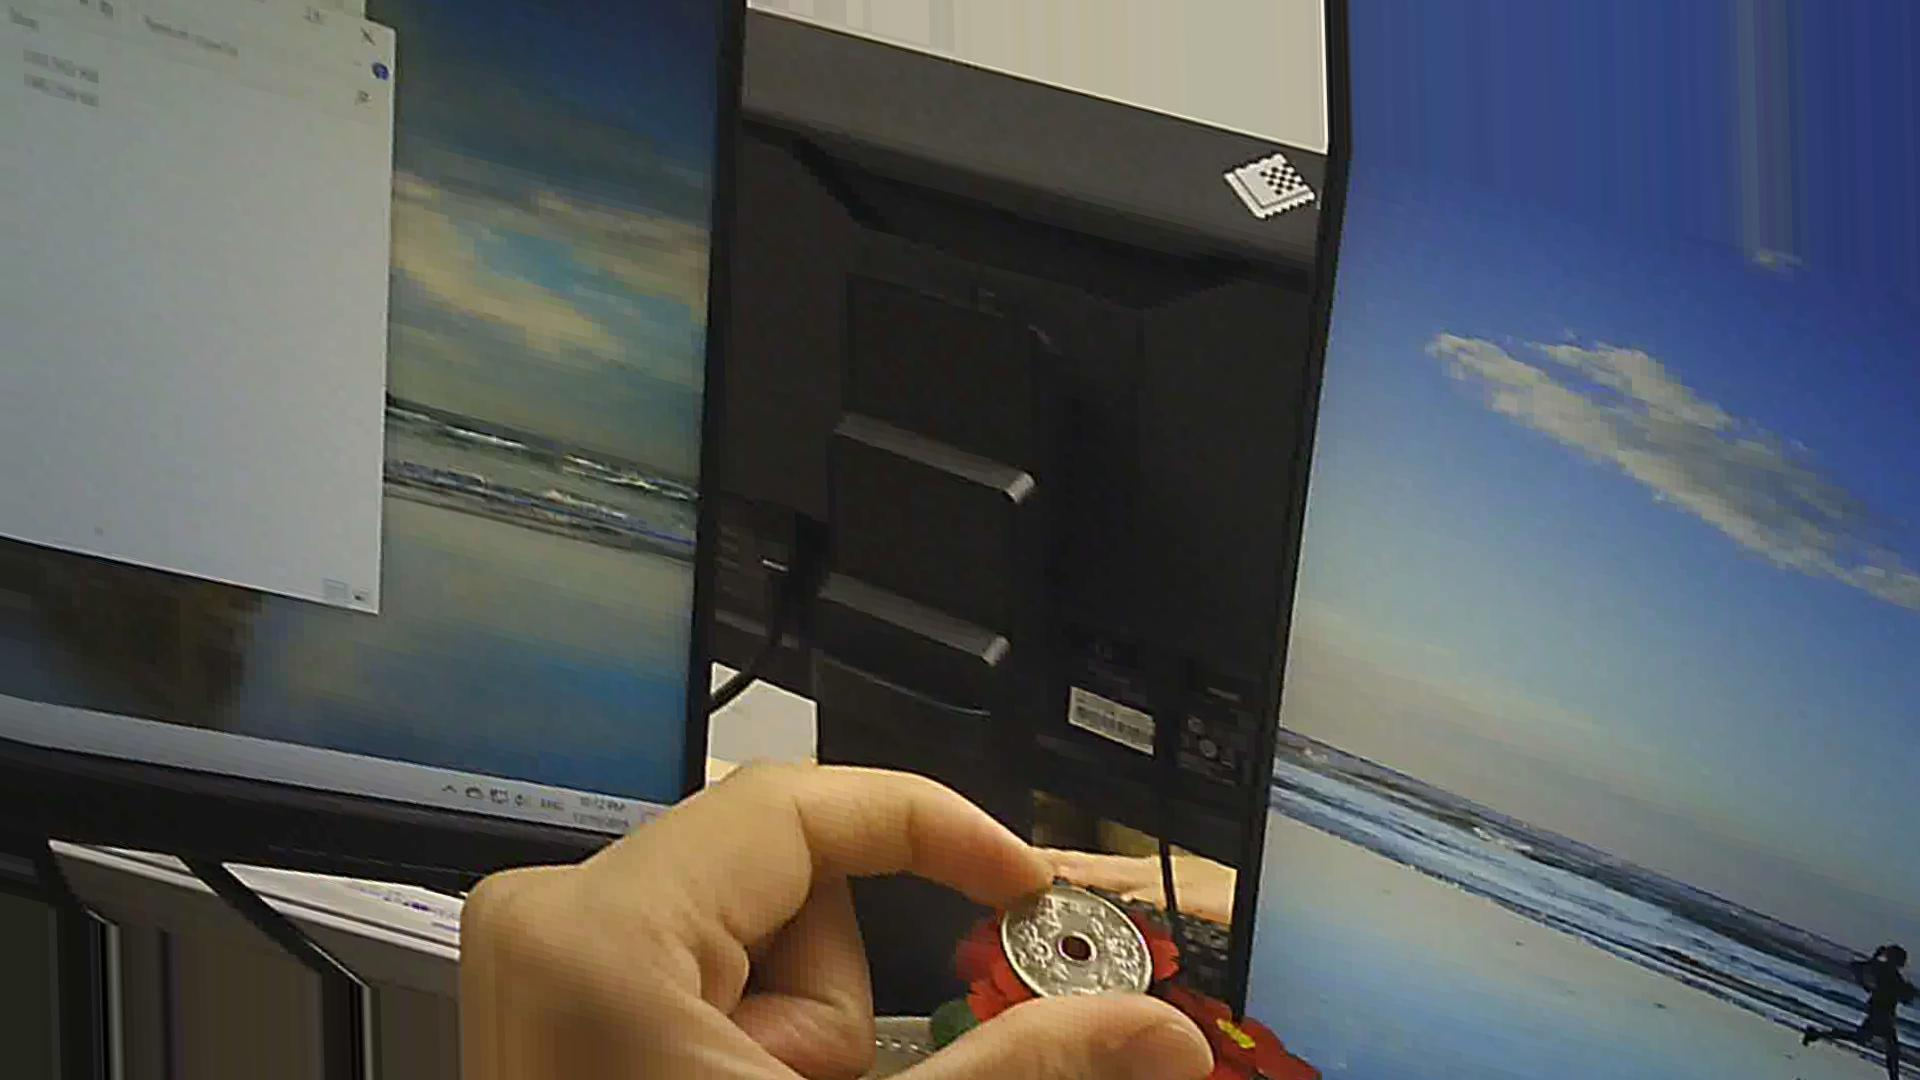50 Yen: (993, 866, 1154, 996)
